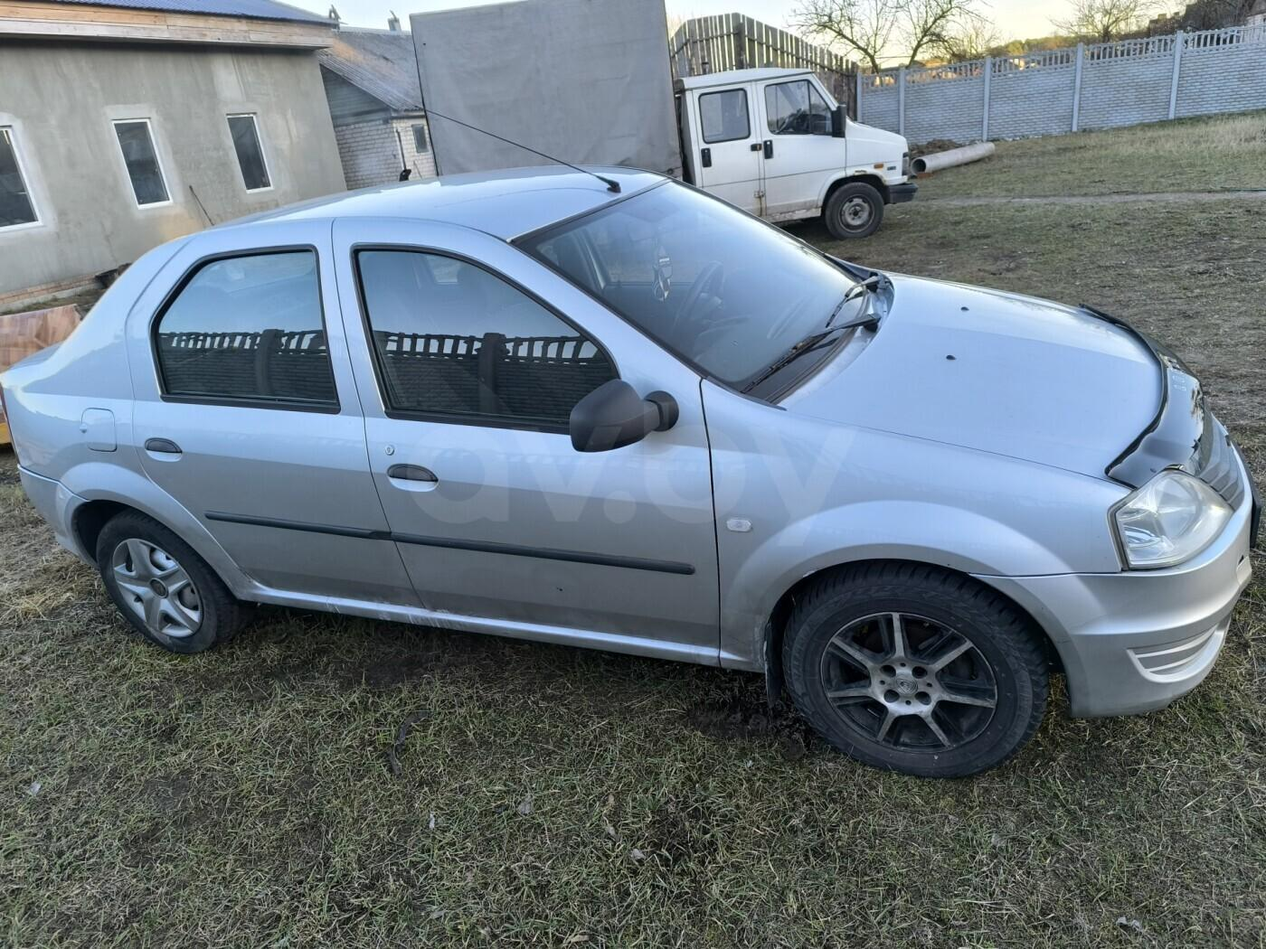Logan_2008-2015: (0, 165, 1260, 773)
